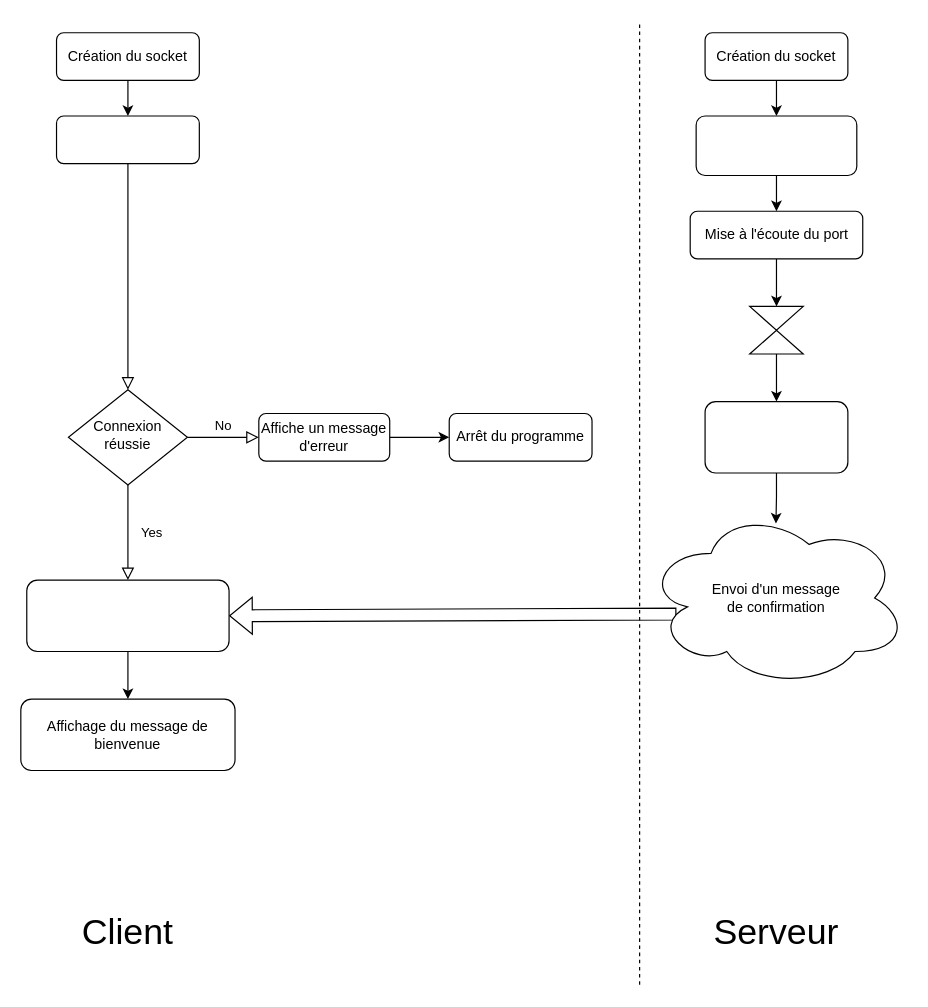
Image size: 928x1007. Some labels were removed from this diagram. The centre of each missing label's shape, as x and y in pixels:
Configuration du socket à l'hôte et au port: (x=776, y=145)
Connexion du socket à l'hôte et au port: (x=127, y=139)
Connexion reçue: (x=776, y=436)
Réception du message de bienvenue du serveur: (x=127, y=615)
